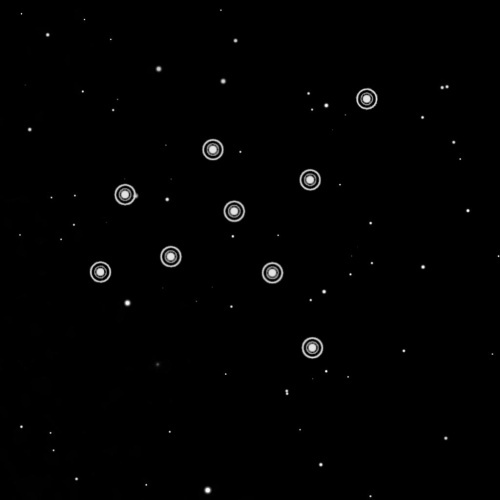cygnus: (85, 80, 383, 364)
